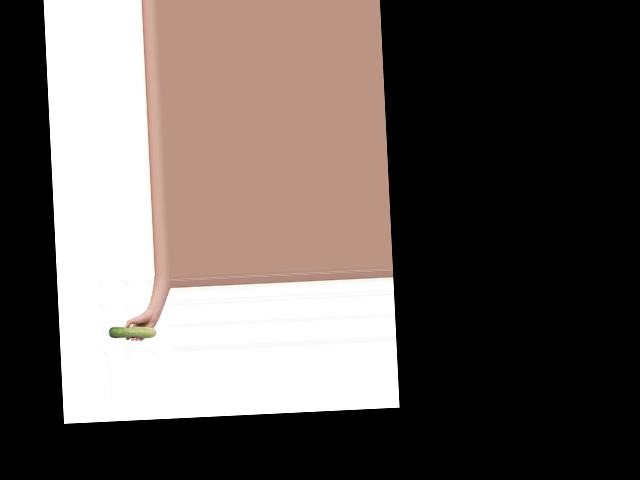cucumber: (108, 324, 157, 339)
